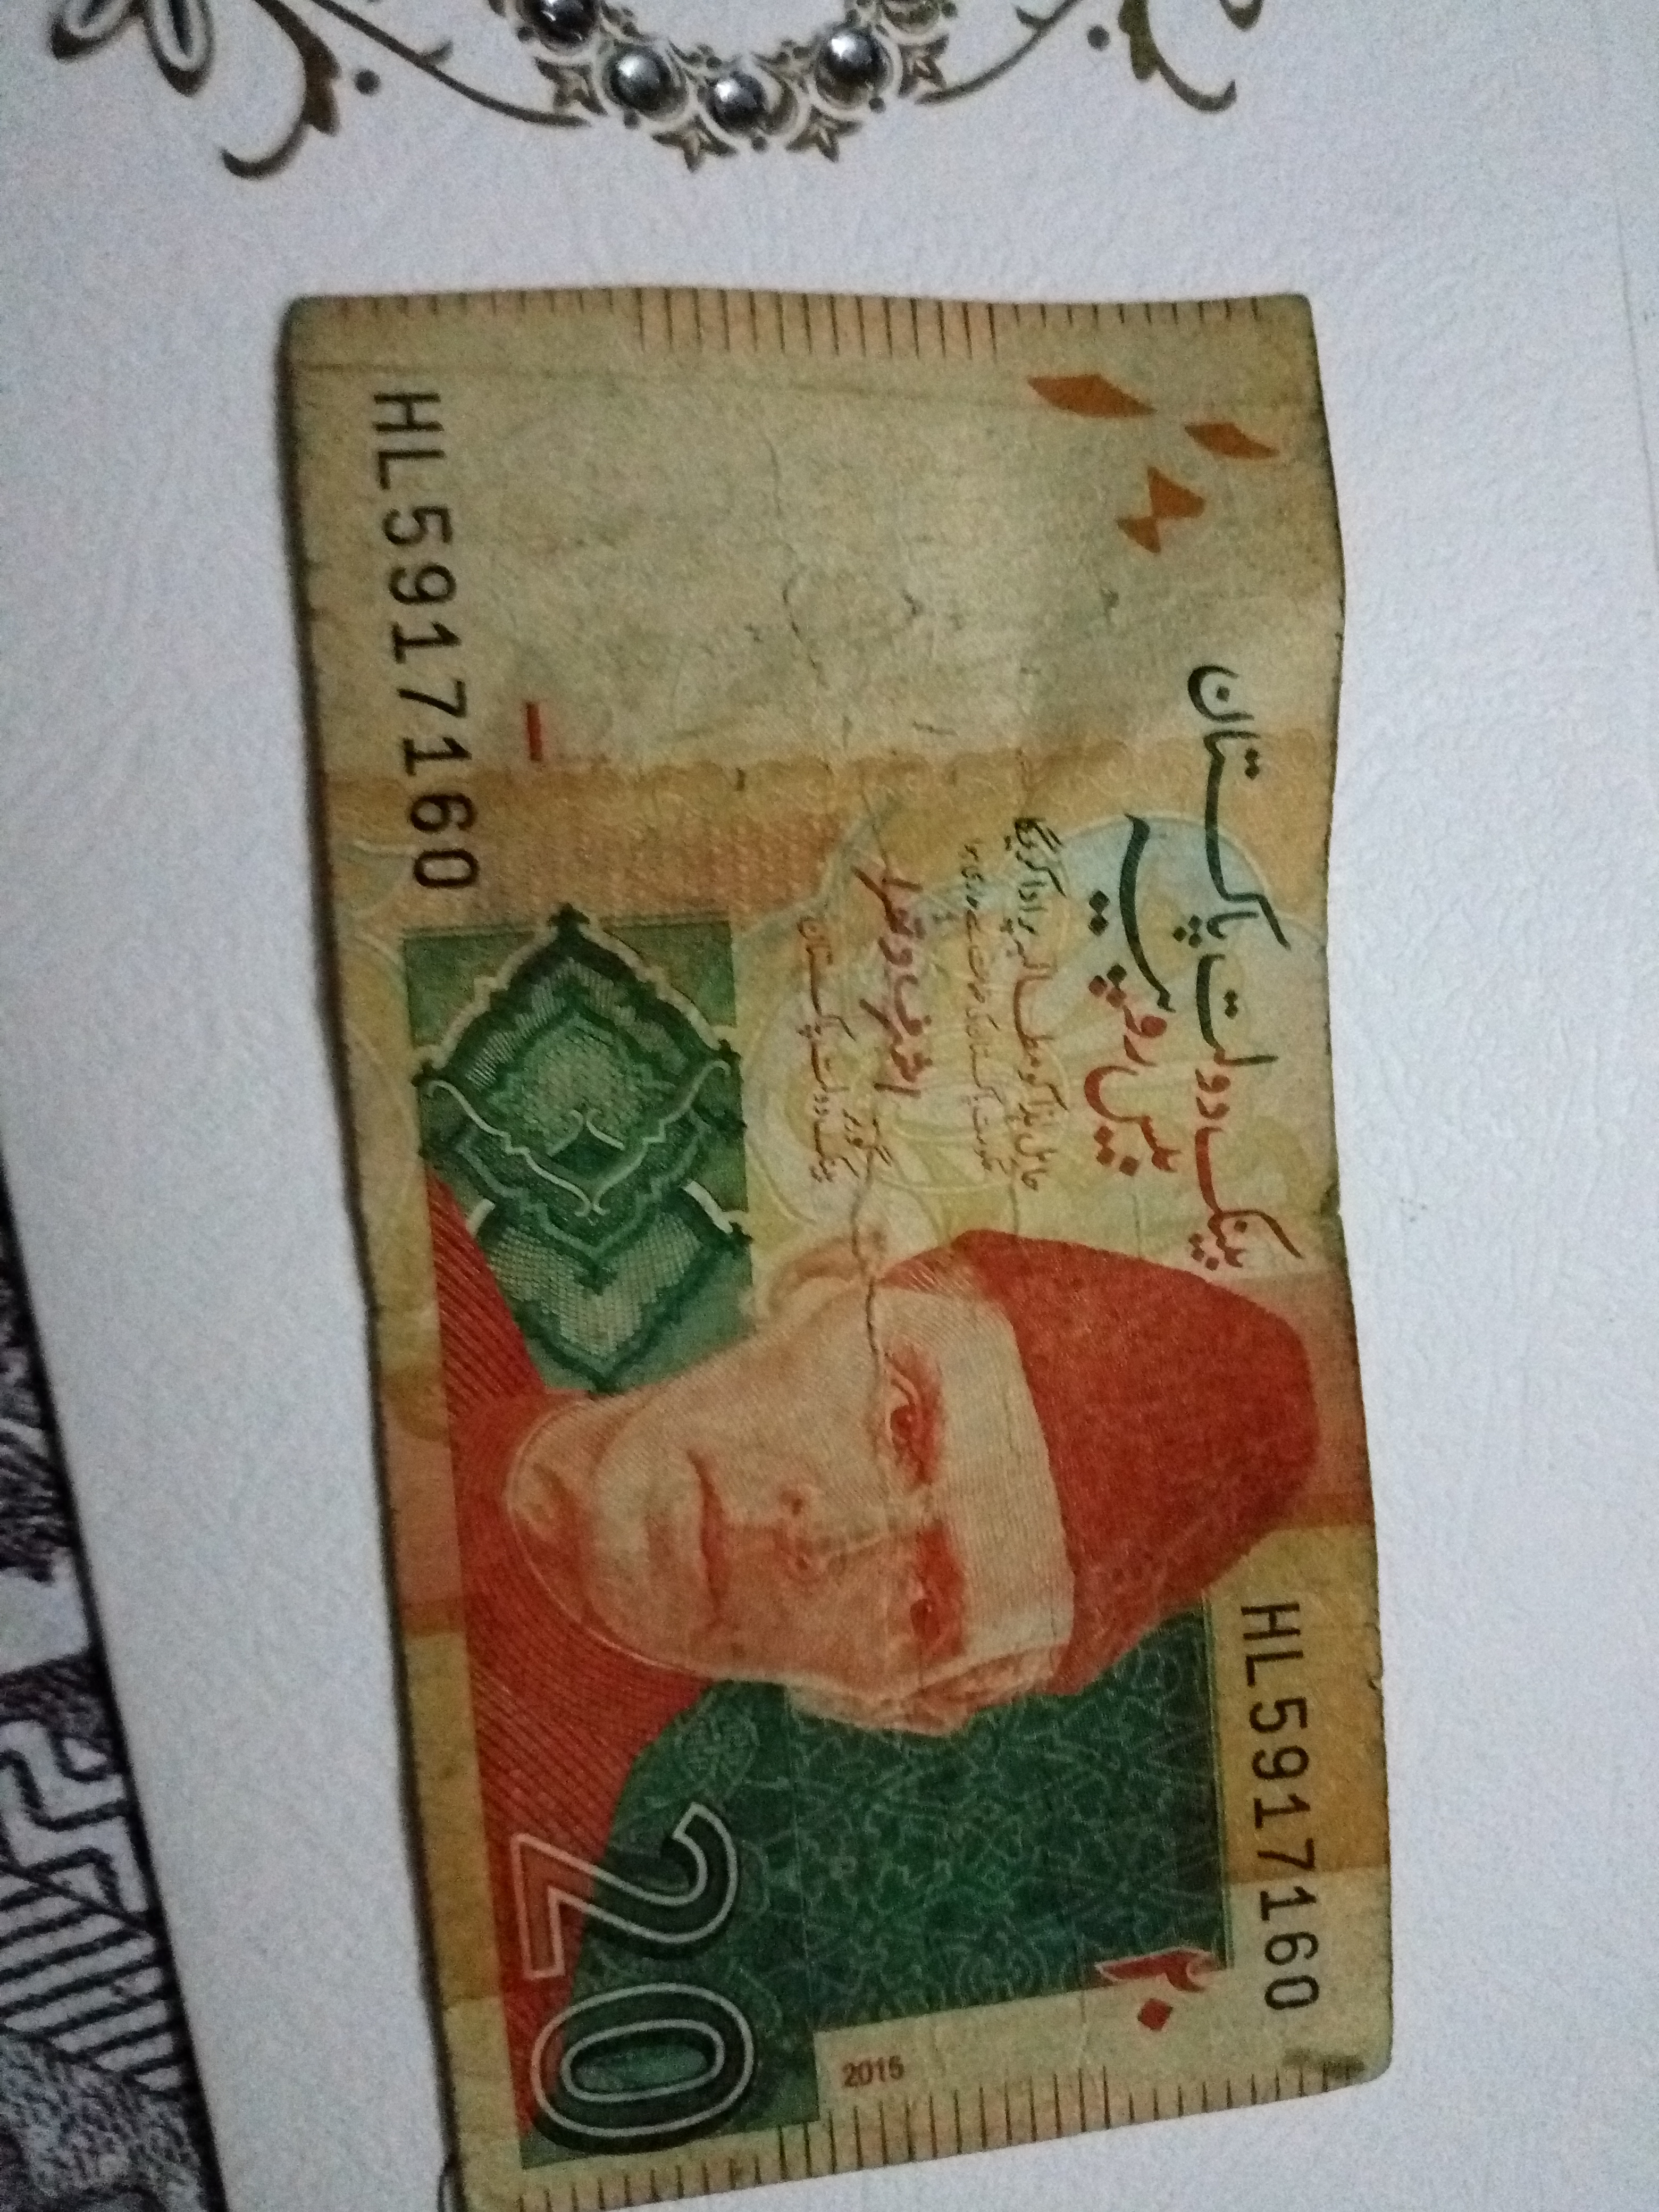20 rupee: (190, 296, 1493, 2156)
